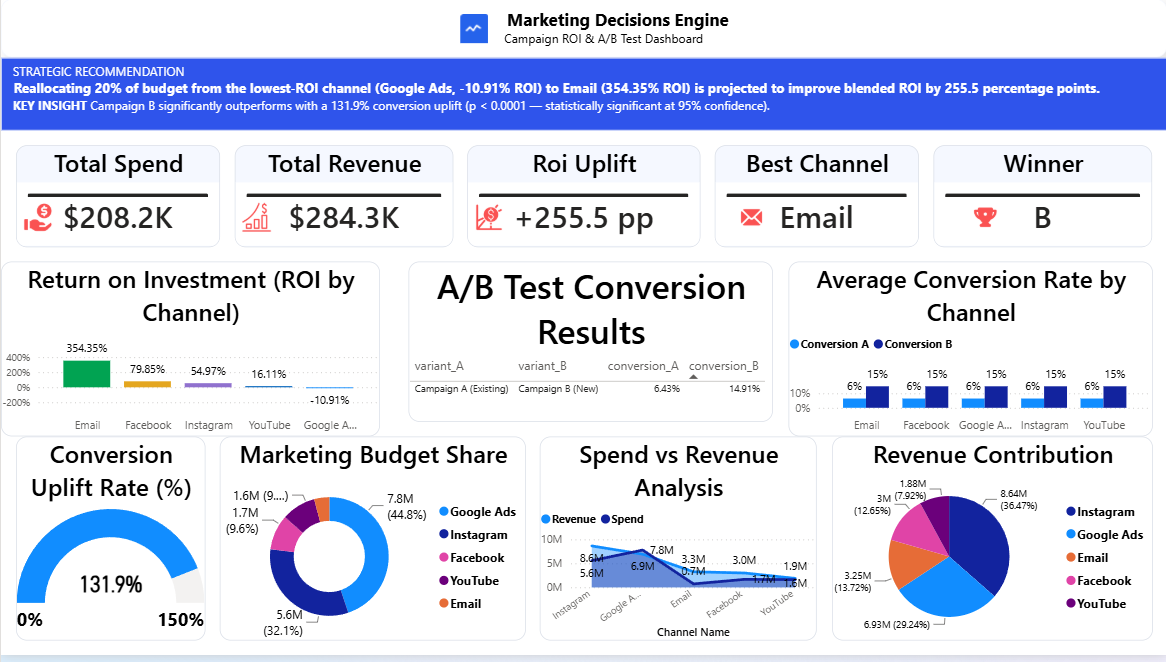

The dashboard page shown, as its layout file describes it:
{"tool":"powerbi","page":{"name":"Page 1","canvas":[1280,720],"ordinal":0},"visuals":[{"type":"cardVisual","title":"Total Revenue","fields":{"Data":["Sum(overall_stats.total_revenue_usd)"]},"box":[256,160,240,112],"z":0},{"type":"cardVisual","title":"Total Spend","fields":{"Data":["Sum(overall_stats.total_spend_usd)"]},"box":[16,160,224,112],"z":1000},{"type":"cardVisual","title":"Roi Uplift","fields":{"Data":["Sum(overall_stats.roi_uplift)"]},"box":[512,160,256,112],"z":2000},{"type":"clusteredColumnChart","title":"Return on Investment (ROI by Channel) ","fields":{"Category":["channels.channel_name"],"Y":["Avg(channels.Actual_ROI)"]},"box":[0,288,416,192],"z":3000},{"type":"tableEx","title":"A/B Test Conversion Results","fields":{"Values":["ab_test_results.variant_A","ab_test_results.variant_B","ab_test_results.conversion_A","ab_test_results.conversion_B"]},"box":[448,288,400,176],"z":4000},{"type":"donutChart","title":"Marketing Budget Share","fields":{"Category":["channels.channel_name"],"Y":["Sum(channels.spend)"]},"box":[240,480,336,224],"z":5000},{"type":"gauge","title":" Conversion Uplift Rate (%)","fields":{"Y":["Sum(ab_test_results.Actual_uplift)"]},"box":[16,480,208,224],"z":6000},{"type":"pieChart","title":"Revenue Contribution","fields":{"Category":["channels.channel_name"],"Y":["Sum(channels.revenue)"]},"box":[912,480,352,224],"z":7000},{"type":"areaChart","title":"Spend vs Revenue Analysis ","fields":{"Category":["channels.channel_name"],"Y":["Sum(channels.revenue)","Sum(channels.spend)"]},"box":[592,480,304,224],"z":8000},{"type":"cardVisual","title":"Best Channel","fields":{"Data":["Min(overall_stats.best_channel)"]},"box":[784,160,224,112],"z":9000},{"type":"cardVisual","title":"Winner  ","fields":{"Data":["Min(ab_test_results.winner)"]},"box":[1024,160,240,112],"z":10000},{"type":"textbox","box":[0,0,1280,64],"z":11000},{"type":"image","box":[496,16,48,32],"z":12000},{"type":"textbox","box":[0,64,1280,80],"z":13000},{"type":"image","box":[16,224,48,32],"z":14000},{"type":"image","box":[512,224,48,32],"z":15000},{"type":"image","box":[256,224,48,32],"z":16000},{"type":"image","box":[800,224,48,32],"z":17000},{"type":"image","box":[1056,224,48,32],"z":18000},{"type":"clusteredColumnChart","title":"Average Conversion Rate by Channel","fields":{"Category":["channels.channel_name"],"Y":["Avg(ab_test_results.conversion_A)","Avg(ab_test_results.conversion_B)"]},"box":[864,288,400,192],"z":19000}]}

Visuals, with their boxes in screenshot pixels (x1, y1, x2, y2), scaled from the page's 1280x720 canvas onto the 1166x662 screenshot:
"Total Revenue" cardVisual: x1=233 y1=147 x2=452 y2=250
"Total Spend" cardVisual: x1=15 y1=147 x2=219 y2=250
"Roi Uplift" cardVisual: x1=466 y1=147 x2=700 y2=250
"Return on Investment (ROI by Channel) " clusteredColumnChart: x1=0 y1=265 x2=379 y2=441
"A/B Test Conversion Results" tableEx: x1=408 y1=265 x2=772 y2=427
"Marketing Budget Share" donutChart: x1=219 y1=441 x2=525 y2=647
" Conversion Uplift Rate (%)" gauge: x1=15 y1=441 x2=204 y2=647
"Revenue Contribution" pieChart: x1=831 y1=441 x2=1151 y2=647
"Spend vs Revenue Analysis " areaChart: x1=539 y1=441 x2=816 y2=647
"Best Channel" cardVisual: x1=714 y1=147 x2=918 y2=250
"Winner  " cardVisual: x1=933 y1=147 x2=1151 y2=250
textbox: x1=0 y1=0 x2=1165 y2=59
image: x1=452 y1=15 x2=496 y2=44
textbox: x1=0 y1=59 x2=1165 y2=132
image: x1=15 y1=206 x2=58 y2=235
image: x1=466 y1=206 x2=510 y2=235
image: x1=233 y1=206 x2=277 y2=235
image: x1=729 y1=206 x2=772 y2=235
image: x1=962 y1=206 x2=1006 y2=235
"Average Conversion Rate by Channel" clusteredColumnChart: x1=787 y1=265 x2=1151 y2=441
